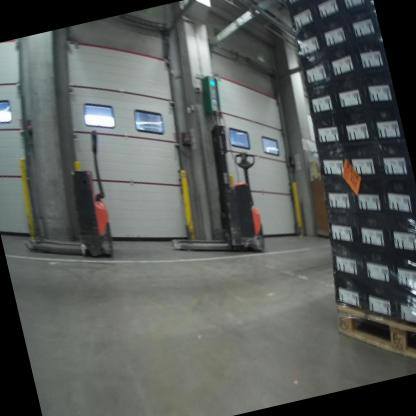pallet: (327, 283, 416, 387)
pallet_truck: (0, 115, 131, 283), (144, 134, 279, 273)
